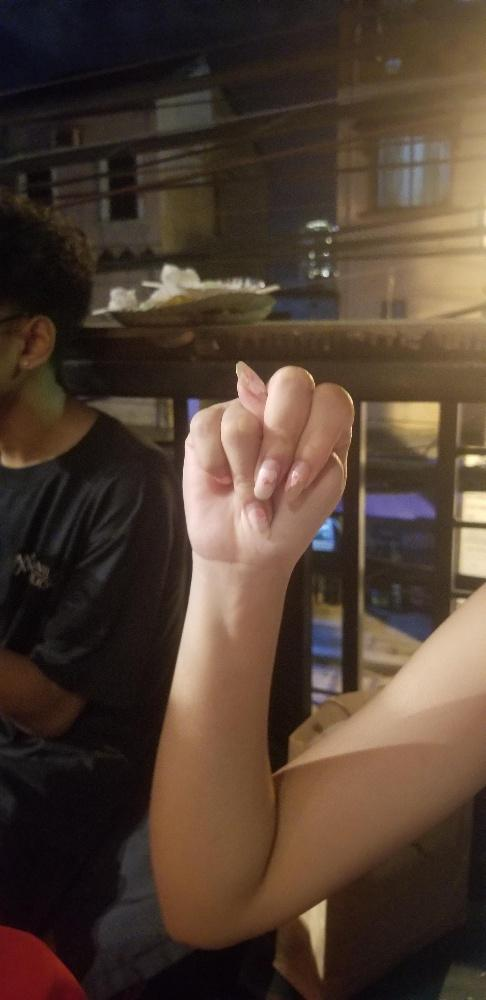n: (177, 357, 357, 573)
